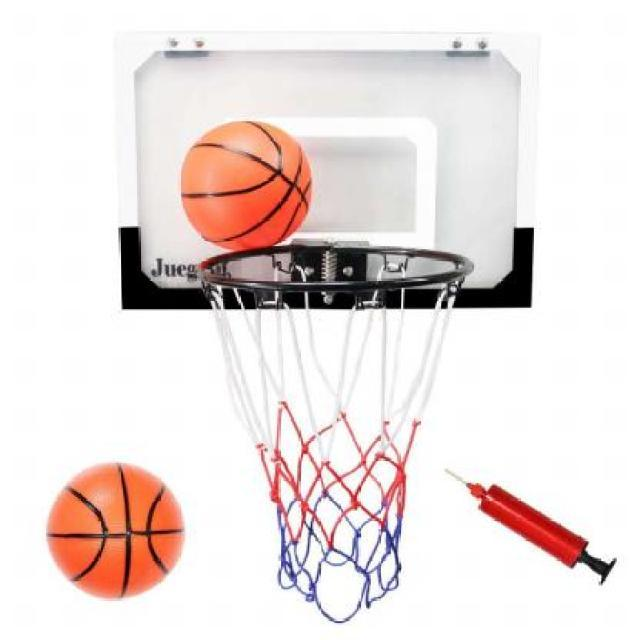basketball: (46, 459, 188, 601), (180, 117, 314, 250)
rim: (197, 250, 471, 602)
